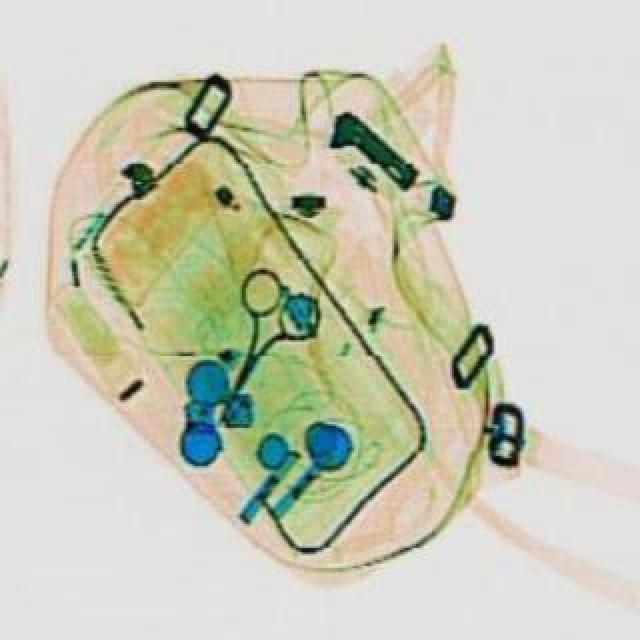pliers: (184, 258, 340, 434)
